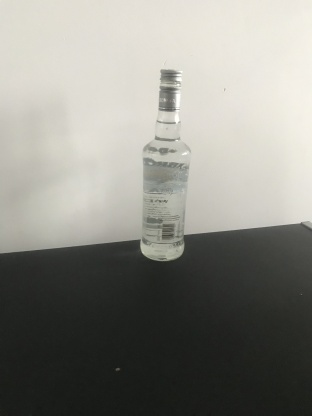nakretka: (157, 66, 182, 111)
